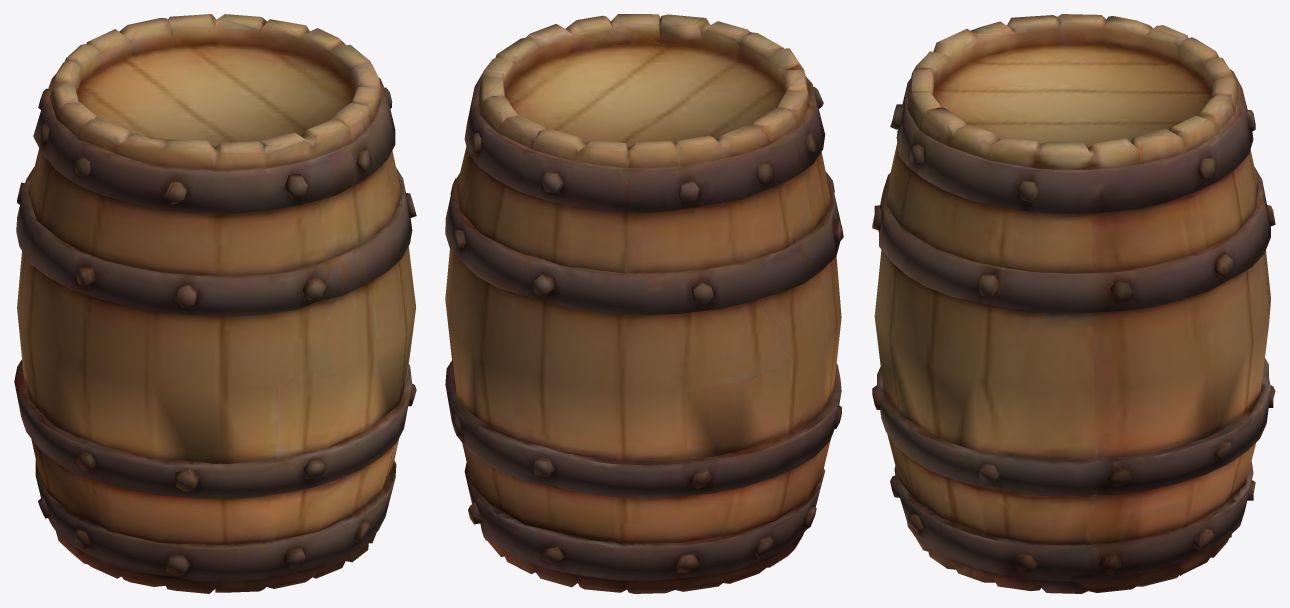
The model's file is wyn_furn_rustic_barrel.glb.
The picture shows the model from 3 angles, left to right: view 1: azimuth 30°, elevation 25°; view 2: azimuth 150°, elevation 25°; view 3: azimuth 270°, elevation 25°; orthographic projection.
Visible parts, largest first — view 1: tripo_node_3b21097f-851b-4924-8641-ce4cd9a3f6b4; view 2: tripo_node_3b21097f-851b-4924-8641-ce4cd9a3f6b4; view 3: tripo_node_3b21097f-851b-4924-8641-ce4cd9a3f6b4.
Boxes of the visible parts, bbox=[...] form: tripo_node_3b21097f-851b-4924-8641-ce4cd9a3f6b4: bbox=[14, 14, 416, 593]; tripo_node_3b21097f-851b-4924-8641-ce4cd9a3f6b4: bbox=[445, 14, 843, 593]; tripo_node_3b21097f-851b-4924-8641-ce4cd9a3f6b4: bbox=[872, 14, 1275, 593].
Bounding box in the file's own units: 0.8 × 1 × 0.8133.
1 material, 1 textured.
